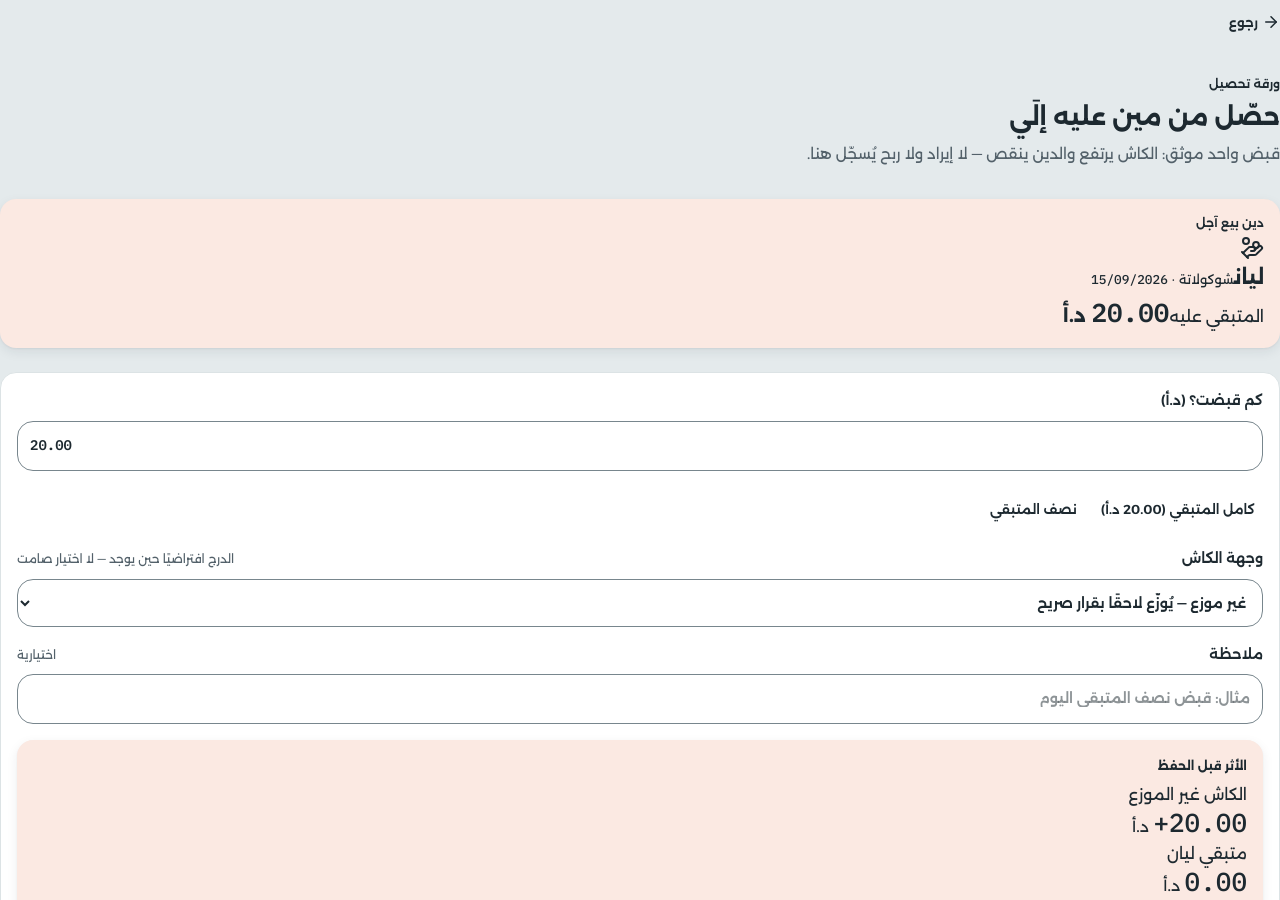
Test: Wave 4.3 — P-4.3-4: Work, orders, and sharing › F06: a direct-sale collection has no share button — no customer draft kind in the contract
Replace the text in the field named "مبلغ التحصيل" with "10". click: (640, 446)
box: top-left (17, 421), bottom-right (1263, 471)
(page scrolled)
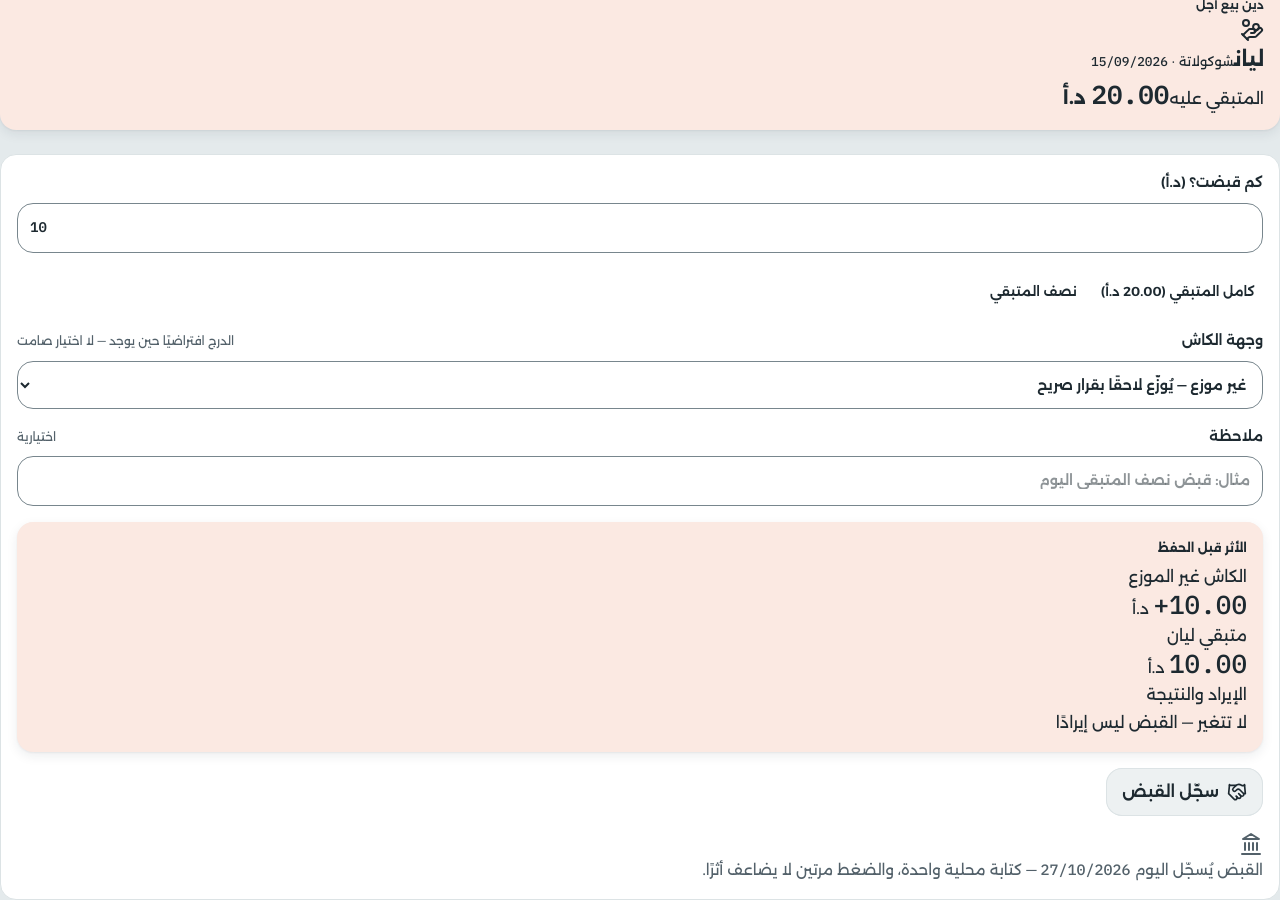
Click the button "سجّل القبض". click: (1185, 792)
box: top-left (1106, 768), bottom-right (1263, 816)
(page scrolled)
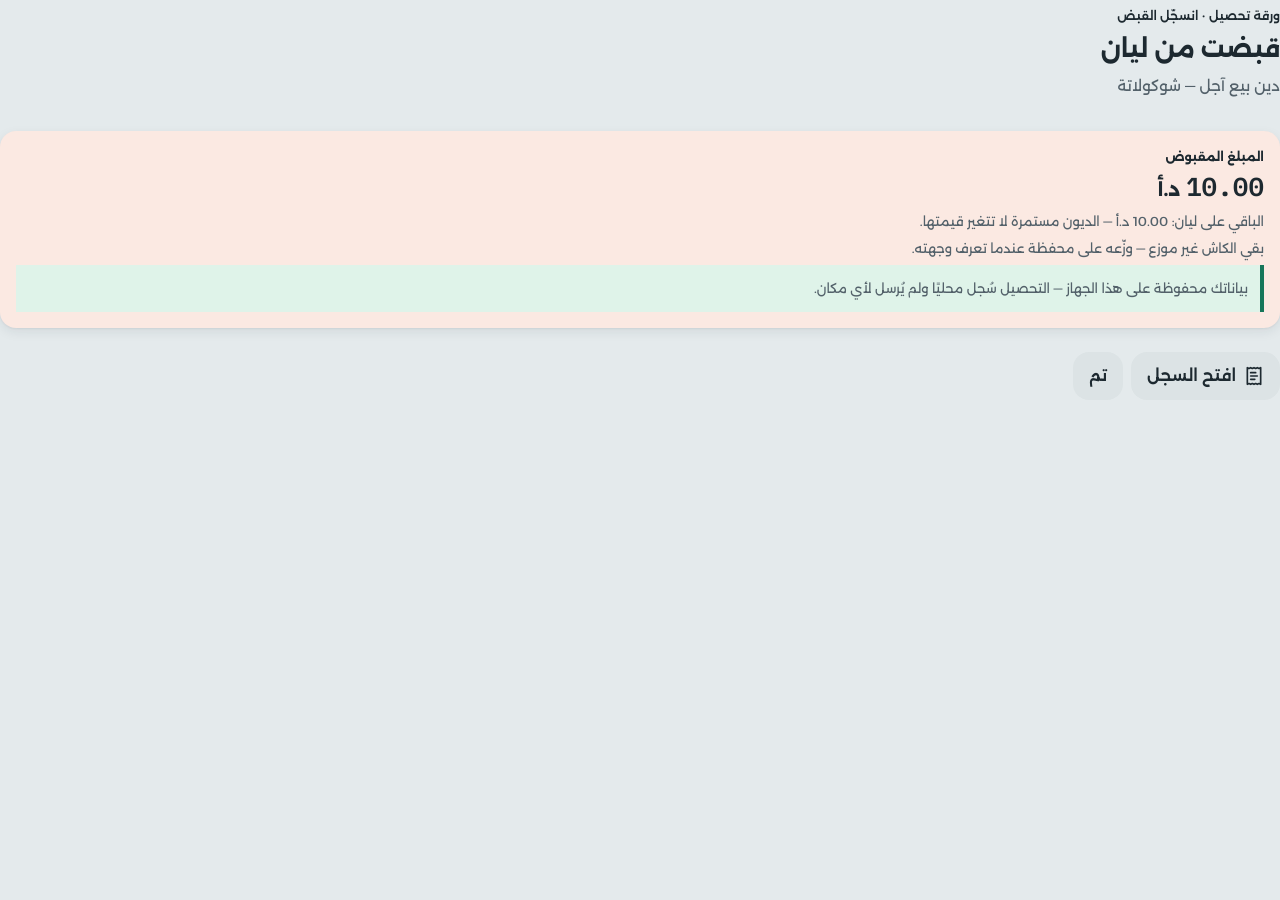
Now the heading "قبضت من ليان" is shown, box top-left (1101, 34), bottom-right (1279, 63)
